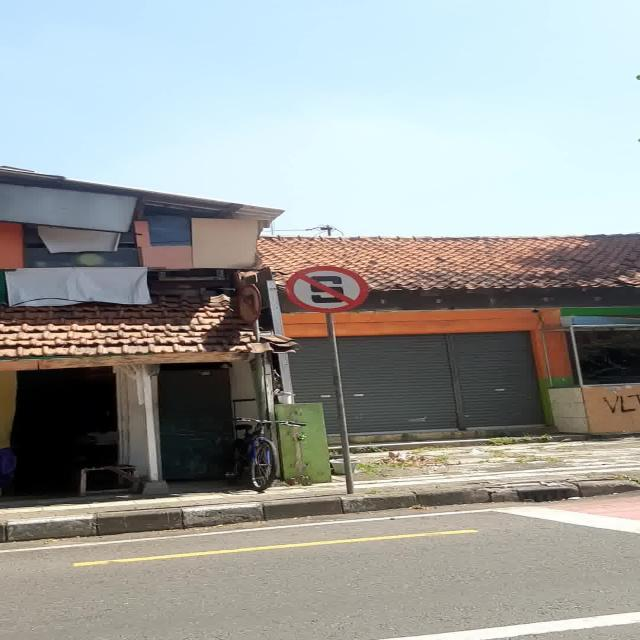Dilarang Berhenti: (285, 266, 368, 312)
